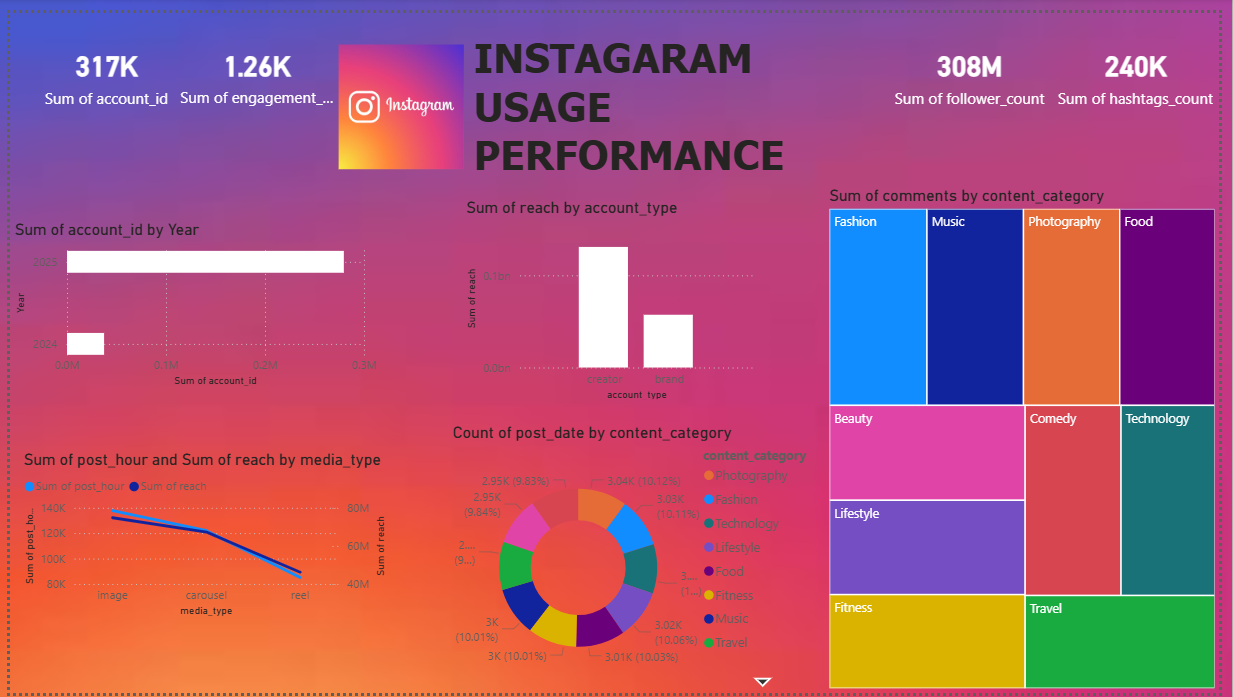

What the dashboard file says about the page in this screenshot:
{"tool":"powerbi","page":{"name":"INSTA USAGE","canvas":[1280,720],"ordinal":0},"visuals":[{"type":"card","fields":{"Values":["Sum(Instagram_Analytics.account_id)"]},"box":[9.7,0,184.6,129.5],"z":0},{"type":"card","fields":{"Values":["Sum(Instagram_Analytics.engagement_rate)"]},"box":[174.9,0,191.1,129.5],"z":1000},{"type":"card","fields":{"Values":["Sum(Instagram_Analytics.follower_count)"]},"box":[927.8,0,173.3,129.5],"z":2000},{"type":"card","fields":{"Values":["Sum(Instagram_Analytics.hashtags_count)"]},"box":[1101.1,0,178.1,129.5],"z":3000},{"type":"barChart","fields":{"Category":["Instagram_Analytics.post_date.Variation.Date Hierarchy.Year","Instagram_Analytics.post_date.Variation.Date Hierarchy.Quarter","Instagram_Analytics.post_date.Variation.Date Hierarchy.Month","Instagram_Analytics.post_date.Variation.Date Hierarchy.Day"],"Y":["Sum(Instagram_Analytics.account_id)"]},"box":[9.4,232.4,393.1,181.4],"z":4000},{"type":"lineChart","fields":{"Category":["Instagram_Analytics.media_type"],"Y":["Sum(Instagram_Analytics.post_hour)"],"Y2":["Sum(Instagram_Analytics.reach)"]},"box":[9,462.5,393,181],"z":5000},{"type":"donutChart","fields":{"Category":["Instagram_Analytics.content_category"],"Y":["CountNonNull(Instagram_Analytics.post_date)"]},"box":[463,432.8,398.7,287.2],"z":6000},{"type":"columnChart","fields":{"Category":["Instagram_Analytics.account_type"],"Y":["Sum(Instagram_Analytics.reach)"]},"box":[463.3,195.3,315,219.6],"z":7000},{"type":"treemap","fields":{"Group":["Instagram_Analytics.content_category"],"Values":["Sum(Instagram_Analytics.comments)"]},"box":[861.7,183.3,417.6,536.7],"z":8000},{"type":"textbox","box":[443.7,16.7,354.3,166.6],"z":9000}]}

Visuals, with their boxes in screenshot pixels (x1, y1, x2, y2), scaled from the page's 1280x720 canvas onto the 1233x697 screenshot:
card - Sum(Instagram_Analytics.account_id): crop(9, 0, 187, 125)
card - Sum(Instagram_Analytics.engagement_rate): crop(168, 0, 353, 125)
card - Sum(Instagram_Analytics.follower_count): crop(894, 0, 1061, 125)
card - Sum(Instagram_Analytics.hashtags_count): crop(1061, 0, 1232, 125)
barChart - Instagram_Analytics.post_date.Variation.Date Hierarchy.Year x Instagram_Analytics.post_date.Variation.Date Hierarchy.Quarter: crop(9, 225, 388, 401)
lineChart - Instagram_Analytics.media_type x Sum(Instagram_Analytics.post_hour): crop(9, 448, 387, 623)
donutChart - Instagram_Analytics.content_category x CountNonNull(Instagram_Analytics.post_date): crop(446, 419, 830, 696)
columnChart - Instagram_Analytics.account_type x Sum(Instagram_Analytics.reach): crop(446, 189, 750, 402)
treemap - Instagram_Analytics.content_category x Sum(Instagram_Analytics.comments): crop(830, 177, 1232, 696)
textbox: crop(427, 16, 769, 177)
